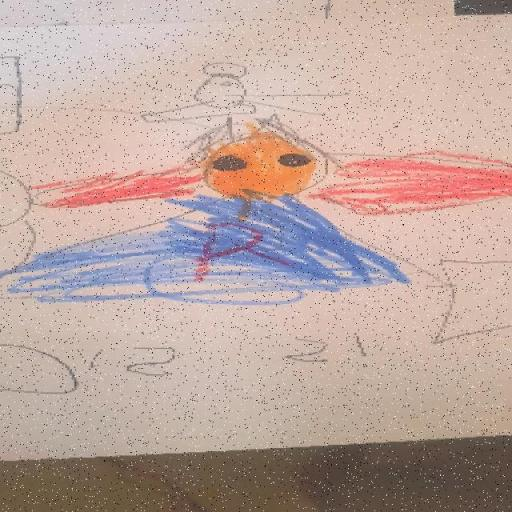person: (70, 115, 405, 333), (149, 48, 273, 163)
